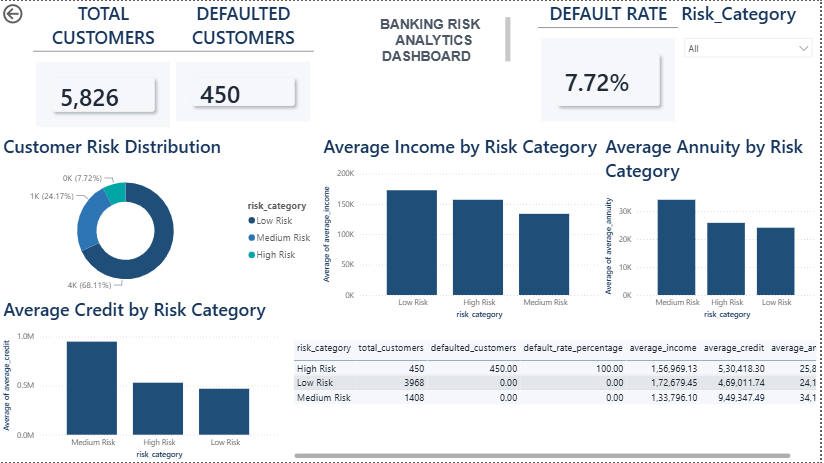

This screenshot's page, from the dashboard's own definition file:
{"tool":"powerbi","page":{"name":"Page 1","canvas":[1280,720],"ordinal":0},"visuals":[{"type":"textbox","box":[538.2,20,265.5,81.8],"z":0},{"type":"cardVisual","title":"TOTAL CUSTOMERS","fields":{"Data":["banking_risk vw_risk_dashboard.Total Customers Exact"]},"box":[50.9,0,220,201.8],"z":1000},{"type":"cardVisual","title":"DEFAULTED CUSTOMERS  ","fields":{"Data":["banking_risk vw_risk_dashboard.Defaulted Customers Exact"]},"box":[270.9,0,220,192.7],"z":2000},{"type":"cardVisual","title":" DEFAULT RATE   ","fields":{"Data":["banking_risk vw_risk_dashboard.Overall Default Rate"]},"box":[840,0,220,192.7],"z":3000},{"type":"donutChart","title":"Customer Risk Distribution","fields":{"Category":["banking_risk vw_risk_dashboard.risk_category"],"Y":["Sum(banking_risk vw_risk_dashboard.total_customers)"]},"box":[0,207.3,500,254.5],"z":4000},{"type":"clusteredColumnChart","title":"Average Income by Risk Category","fields":{"Category":["banking_risk vw_risk_dashboard.risk_category"],"Y":["Avg(banking_risk vw_risk_dashboard.average_income)"]},"box":[500,207.3,440,294.5],"z":5000},{"type":"clusteredColumnChart","title":"Average Credit by Risk Category","fields":{"Category":["banking_risk vw_risk_dashboard.risk_category"],"Y":["Avg(banking_risk vw_risk_dashboard.average_credit)"]},"box":[0,461.8,440,258.2],"z":6000},{"type":"clusteredColumnChart","title":"Average Annuity by Risk Category","fields":{"Category":["banking_risk vw_risk_dashboard.risk_category"],"Y":["Avg(banking_risk vw_risk_dashboard.average_annuity)"]},"box":[940,207.3,340,294.5],"z":7000},{"type":"tableEx","fields":{"Values":["banking_risk vw_risk_dashboard.risk_category","banking_risk vw_risk_dashboard.total_customers","banking_risk vw_risk_dashboard.defaulted_customers","banking_risk vw_risk_dashboard.default_rate_percentage","banking_risk vw_risk_dashboard.average_income","banking_risk vw_risk_dashboard.average_credit","banking_risk vw_risk_dashboard.average_annuity"]},"box":[452.7,525.5,827.3,194.5],"z":8000},{"type":"actionButton","box":[0,0,100,40],"z":9000},{"type":"slicer","title":"Risk_Category","fields":{"Values":["banking_risk vw_risk_dashboard.risk_category"]},"box":[1060,0,220,192.7],"z":10000}]}

Visuals, with their boxes in screenshot pixels (x1, y1, x2, y2), scaled from the page's 1280x720 canvas onto the 824x463 screenshot:
textbox: BBox(346, 13, 517, 65)
"TOTAL CUSTOMERS" cardVisual: BBox(33, 0, 174, 130)
"DEFAULTED CUSTOMERS  " cardVisual: BBox(174, 0, 316, 124)
" DEFAULT RATE   " cardVisual: BBox(541, 0, 682, 124)
"Customer Risk Distribution" donutChart: BBox(0, 133, 322, 297)
"Average Income by Risk Category" clusteredColumnChart: BBox(322, 133, 605, 323)
"Average Credit by Risk Category" clusteredColumnChart: BBox(0, 297, 283, 462)
"Average Annuity by Risk Category" clusteredColumnChart: BBox(605, 133, 823, 323)
tableEx - banking_risk vw_risk_dashboard.risk_category x banking_risk vw_risk_dashboard.total_customers: BBox(291, 338, 823, 462)
actionButton: BBox(0, 0, 64, 26)
"Risk_Category" slicer: BBox(682, 0, 823, 124)
